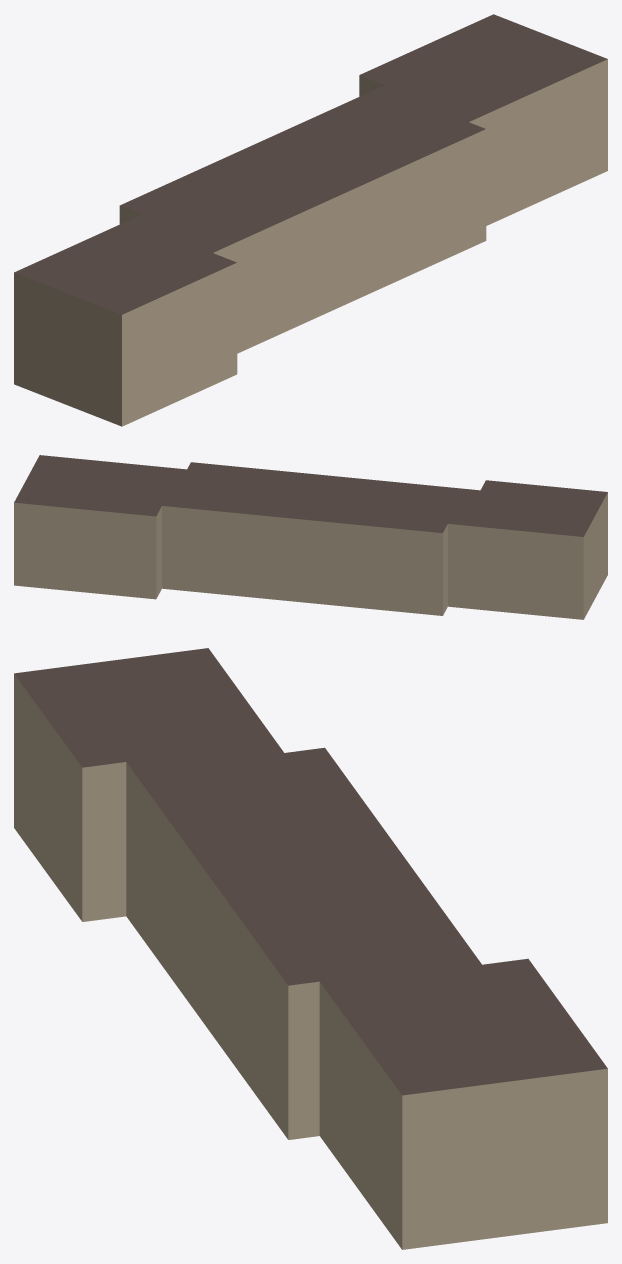
3 renders of one model, top to bottom at view 1: azimuth 30°, elevation 25°; view 2: azimuth 150°, elevation 25°; view 3: azimuth 270°, elevation 25°, orthographic. The views are drawn at different scales.
Parts seen in each view (by area): view 1: HP-w1287260187; view 2: HP-w1287260187; view 3: HP-w1287260187.
Boxes of the visible parts, x1,y1,x2,y2 form: HP-w1287260187: (14, 14, 607, 426); HP-w1287260187: (14, 455, 607, 619); HP-w1287260187: (14, 648, 607, 1249).
Size of the model in its own units: 55.91 by 9 by 31.37.
